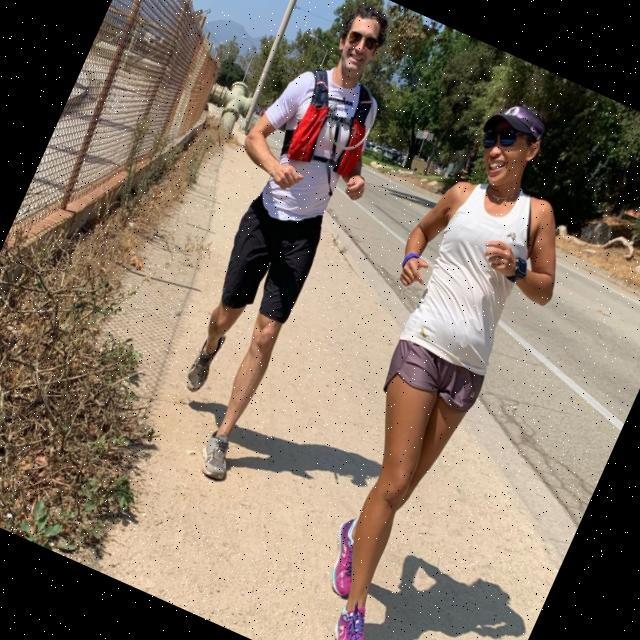Person: (239, 85, 619, 640), (116, 0, 431, 485)
